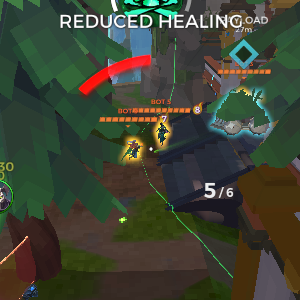model: (127, 137, 141, 165), (156, 119, 169, 149)
